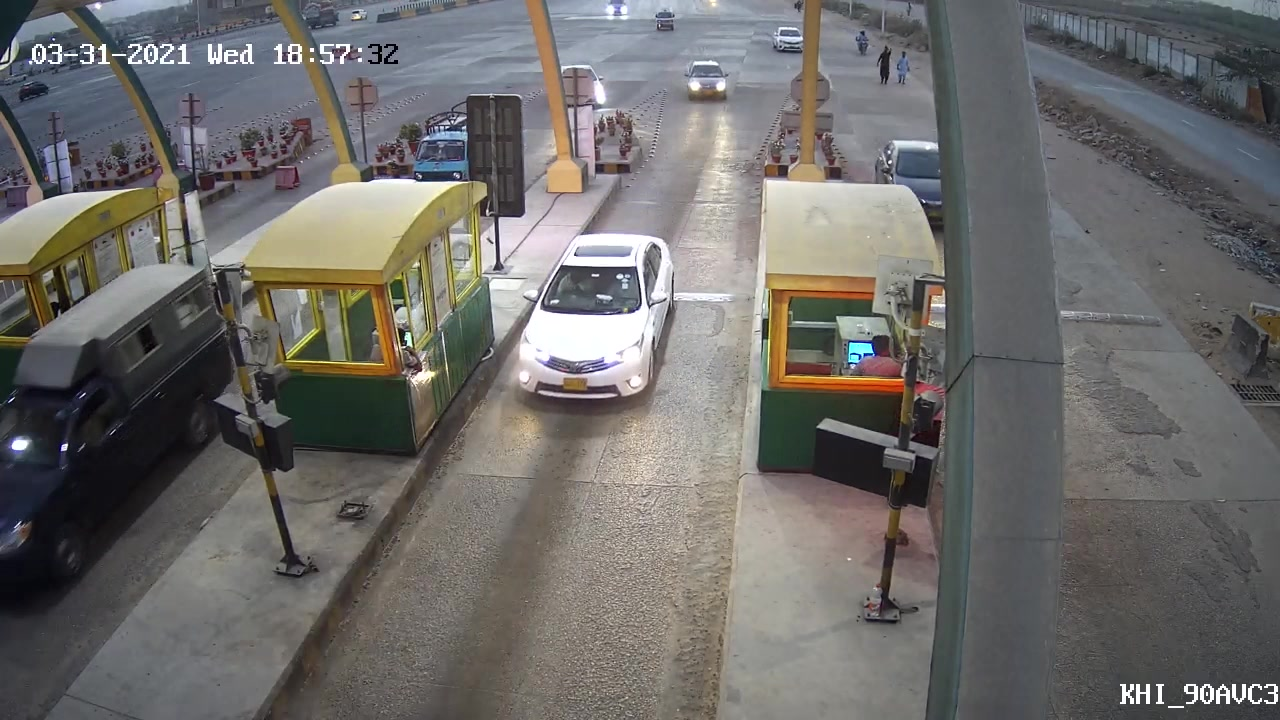F1: (504, 221, 682, 413)
